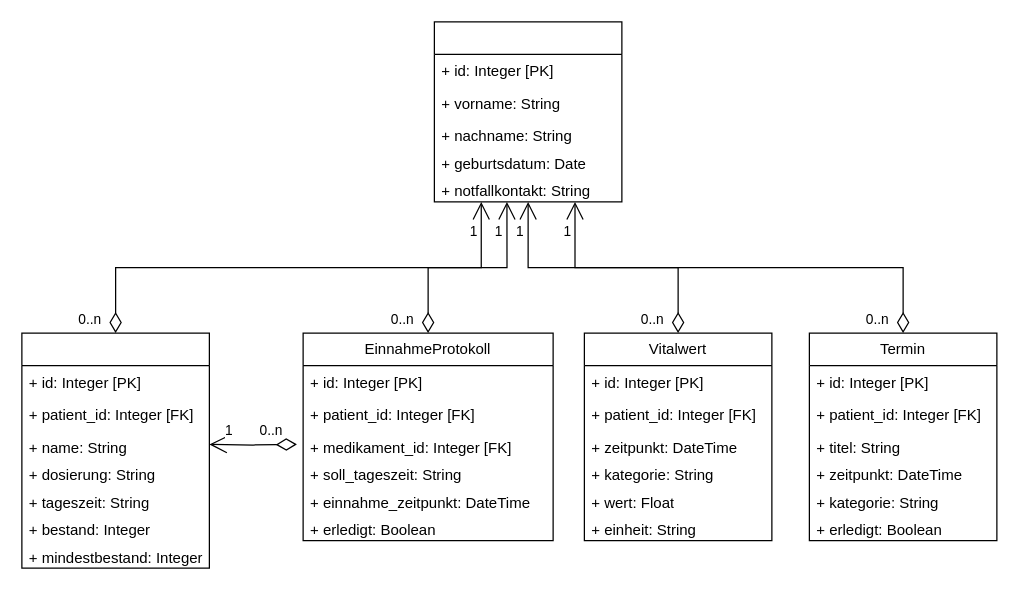
The diagram is 1019 pixels wide and 594 high, and some of its shapes have lost their labels. Here are the shapes that lost their labels. From the top down, the box of each, then its label:
(433, 21, 622, 202): Patient
(21, 332, 209, 568): Medikament
